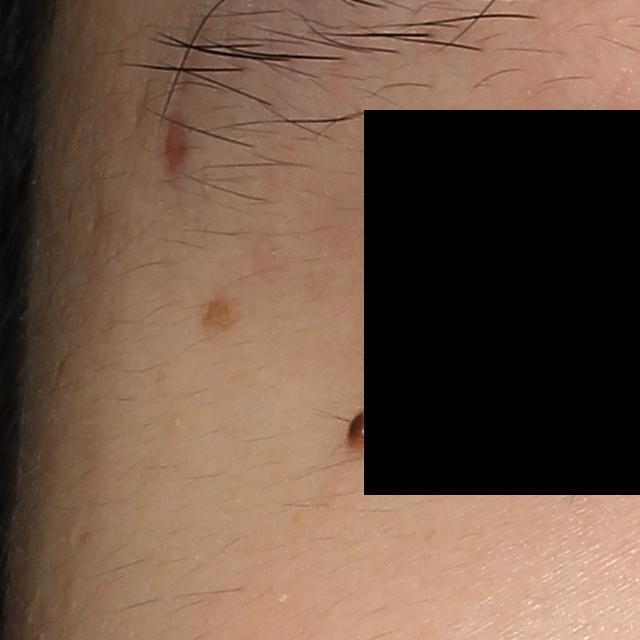melasma: (199, 292, 243, 336)
nevus: (346, 402, 383, 450)
